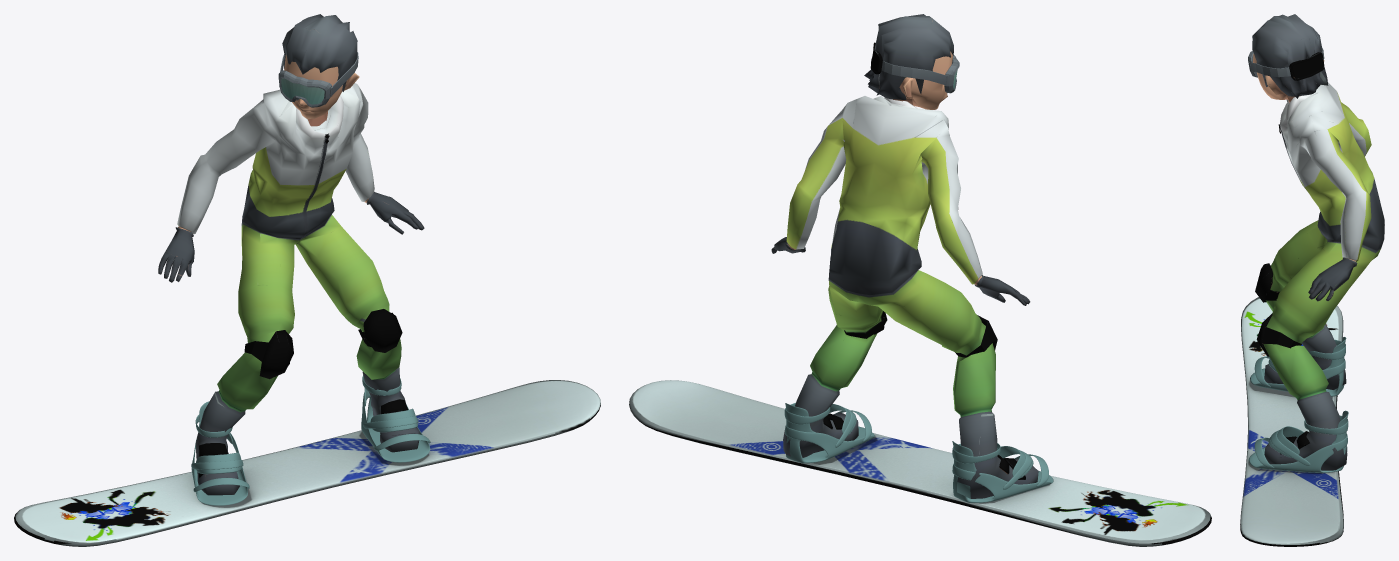
File: Idle.fbx
The picture shows the model from 3 angles, left to right: view 1: azimuth 30°, elevation 25°; view 2: azimuth 150°, elevation 25°; view 3: azimuth 270°, elevation 25°; orthographic projection. The views are drawn at different scales.
Parts seen in each view (by area): view 1: 10535_Snowboard_v1_L3; view 2: 10535_Snowboard_v1_L3; view 3: 10535_Snowboard_v1_L3.
Boxes of the visible parts, x1,y1,x2,y2 form: 10535_Snowboard_v1_L3: (14,14,600,546); 10535_Snowboard_v1_L3: (629,14,1211,546); 10535_Snowboard_v1_L3: (1240,14,1384,546).
Bounding box in the file's own units: 119 × 90.6 × 28.55.
1 material, 1 textured.
